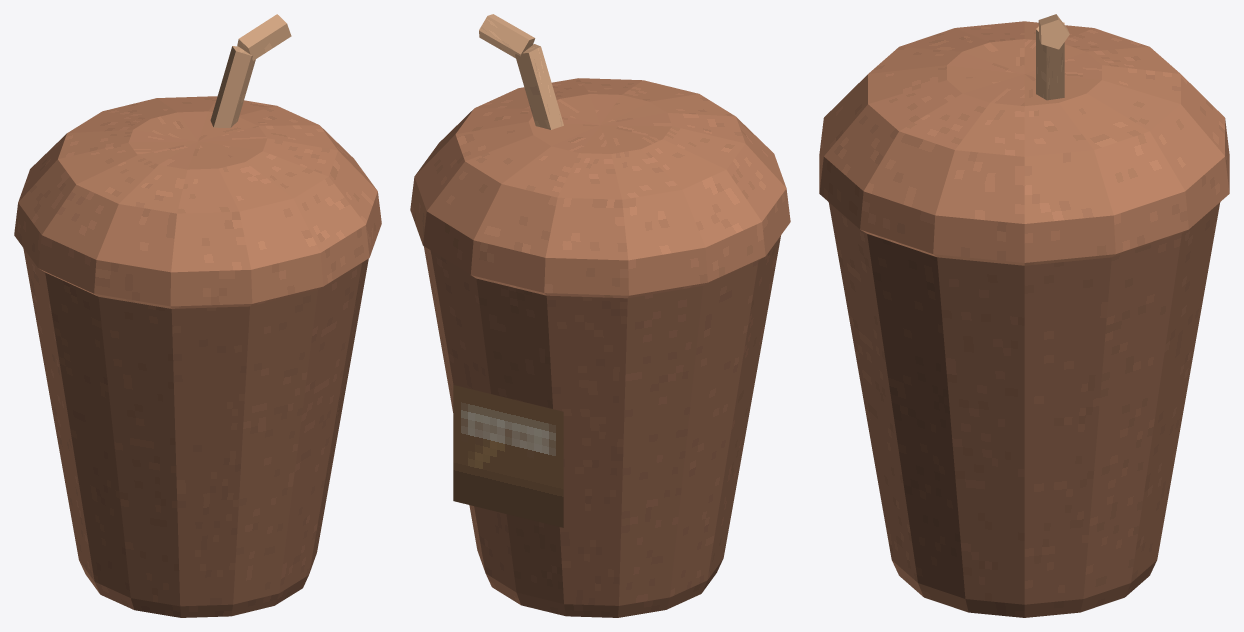
File: milkshake_choc.glb
3 renders of one model, left to right at view 1: azimuth 30°, elevation 25°; view 2: azimuth 150°, elevation 25°; view 3: azimuth 270°, elevation 25°, orthographic. The views are drawn at different scales.
Parts seen in each view (by area): view 1: block_tapered cold-drink cup, block_domed cover, block_bent drinking straw 0, block_bent drinking straw 1; view 2: block_tapered cold-drink cup, block_domed cover, block_cup mark, block_bent drinking straw 0, block_bent drinking straw 1; view 3: block_tapered cold-drink cup, block_domed cover, block_bent drinking straw 0, block_bent drinking straw 1.
Boxes of the visible parts, left/top/right/bottom form: block_tapered cold-drink cup: left=23, top=248, right=368, bottom=617; block_domed cover: left=14, top=96, right=381, bottom=308; block_bent drinking straw 0: left=210, top=46, right=255, bottom=127; block_bent drinking straw 1: left=237, top=14, right=291, bottom=60; block_tapered cold-drink cup: left=423, top=236, right=780, bottom=617; block_domed cover: left=410, top=78, right=790, bottom=298; block_cup mark: left=453, top=385, right=563, bottom=527; block_bent drinking straw 0: left=514, top=44, right=563, bottom=129; block_bent drinking straw 1: left=479, top=14, right=535, bottom=58; block_tapered cold-drink cup: left=828, top=202, right=1220, bottom=617; block_domed cover: left=819, top=21, right=1229, bottom=265; block_bent drinking straw 0: left=1036, top=22, right=1064, bottom=100; block_bent drinking straw 1: left=1038, top=14, right=1069, bottom=49.
Size of the model in its own units: 0.0825 by 0.129 by 0.0804.
Materials: 1 (1 with a texture image).
